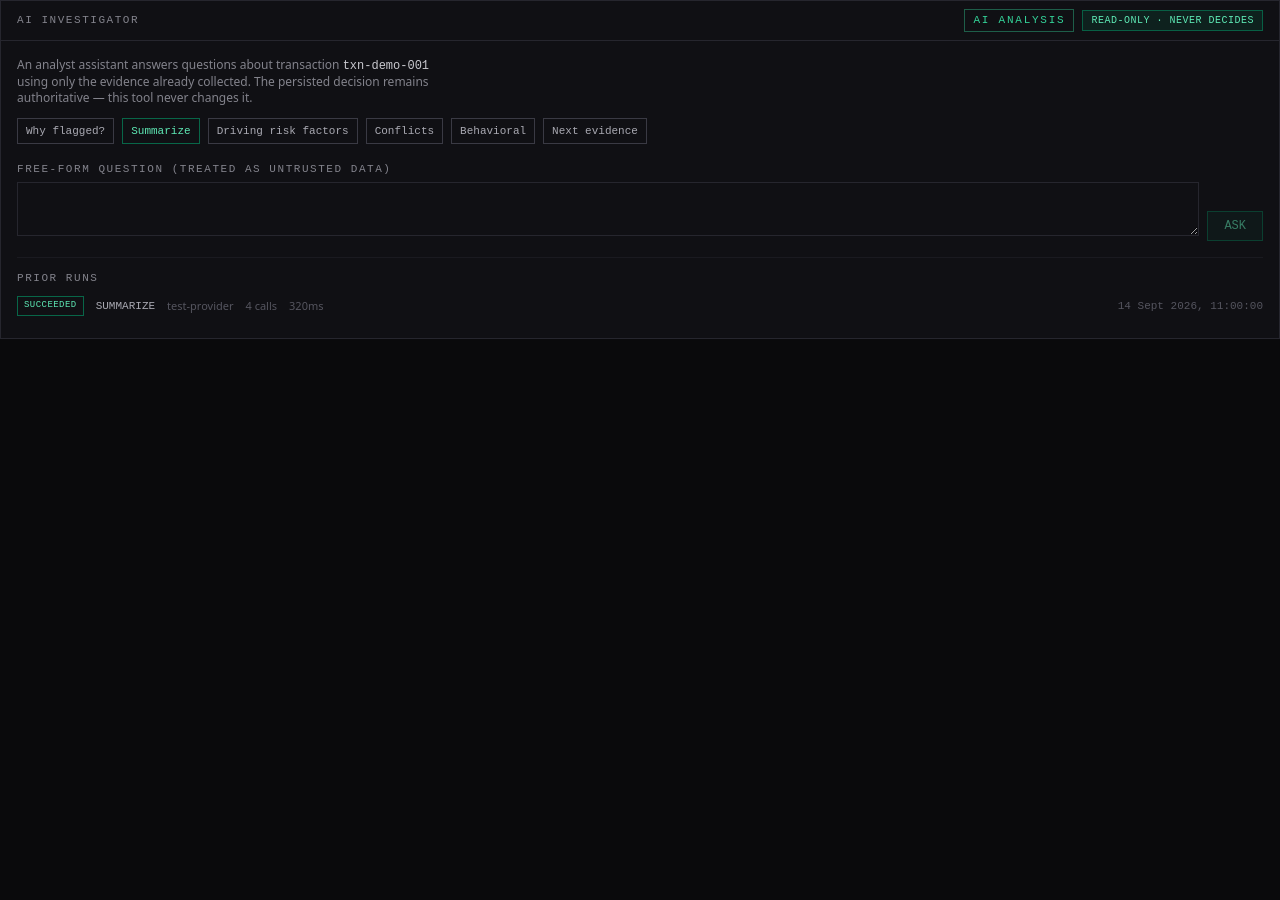
Test: AiInvestigationPanel › sends the preset question type and renders the grounded answer
Click the button "Summarize".
click(161, 131)  # box [122,118,200,144]
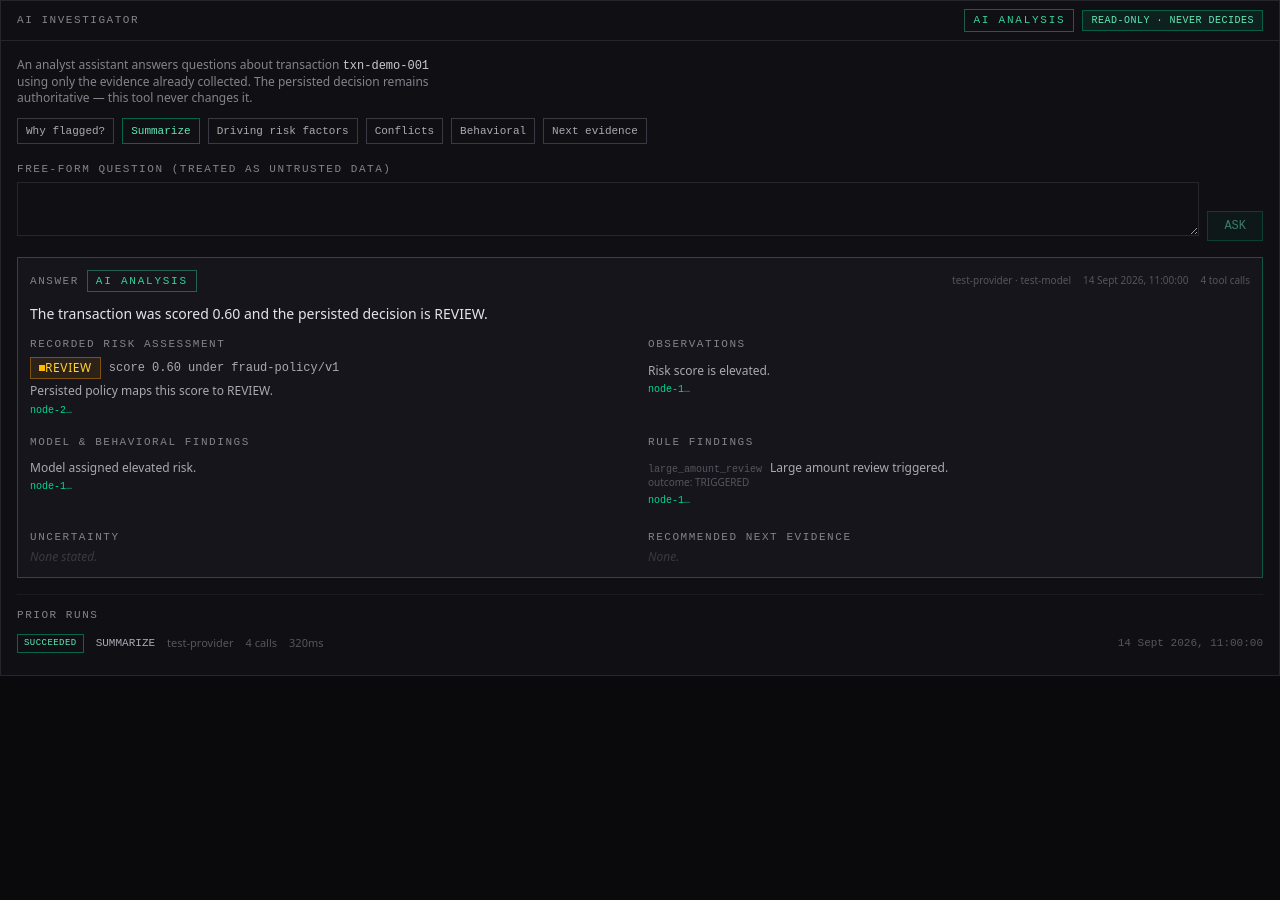
Expected: the element with test id "ai-investigator-answer" shows "The transaction was scored 0.60 and the persisted decision is REVIEW.", [30,304,488,323]
Expected: the element with test id "ai-investigator-answer" shows "REVIEW", [45,358,92,376]
Expected: the element with test id "ai-investigator-answer" shows "fraud-policy/v1", [231,360,339,374]
